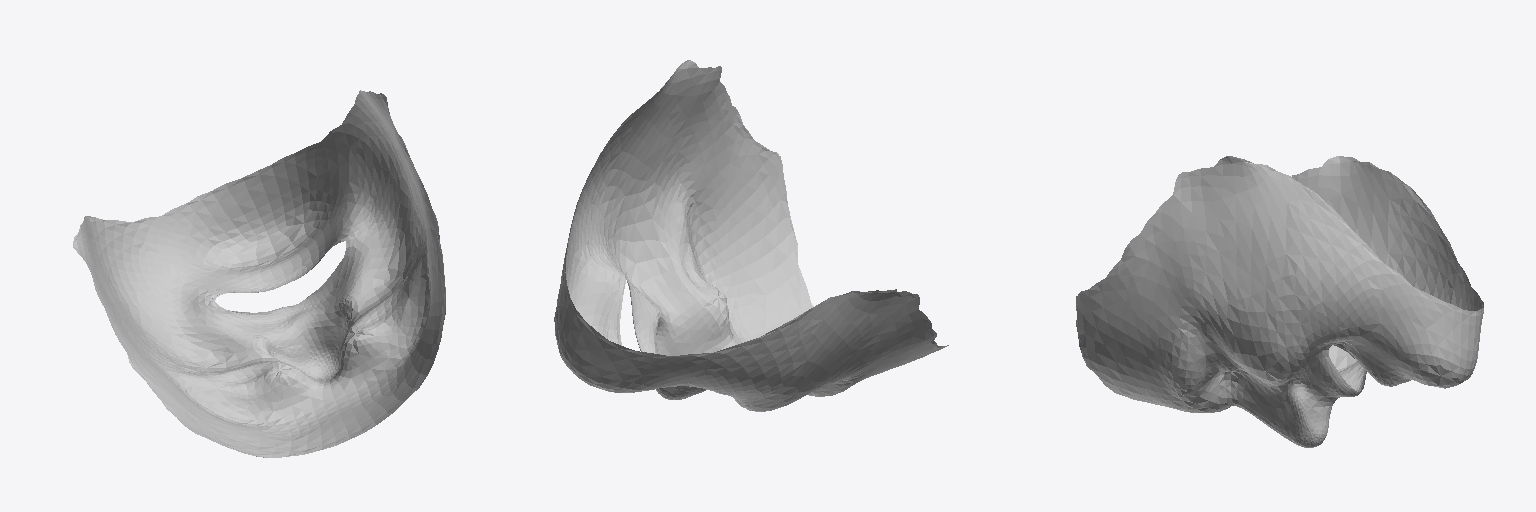
The model's file is face_gab_sfm99.obj.
The picture shows the model from 3 angles: view 1: azimuth 30°, elevation 25°; view 2: azimuth 150°, elevation 25°; view 3: azimuth 270°, elevation 25°; orthographic projection.
Size of the model in its own units: 172 by 160 by 195.